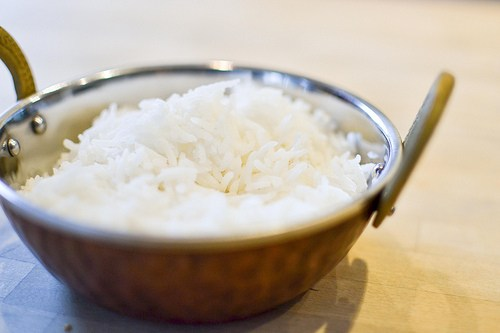plain rice: (32, 81, 363, 220)
